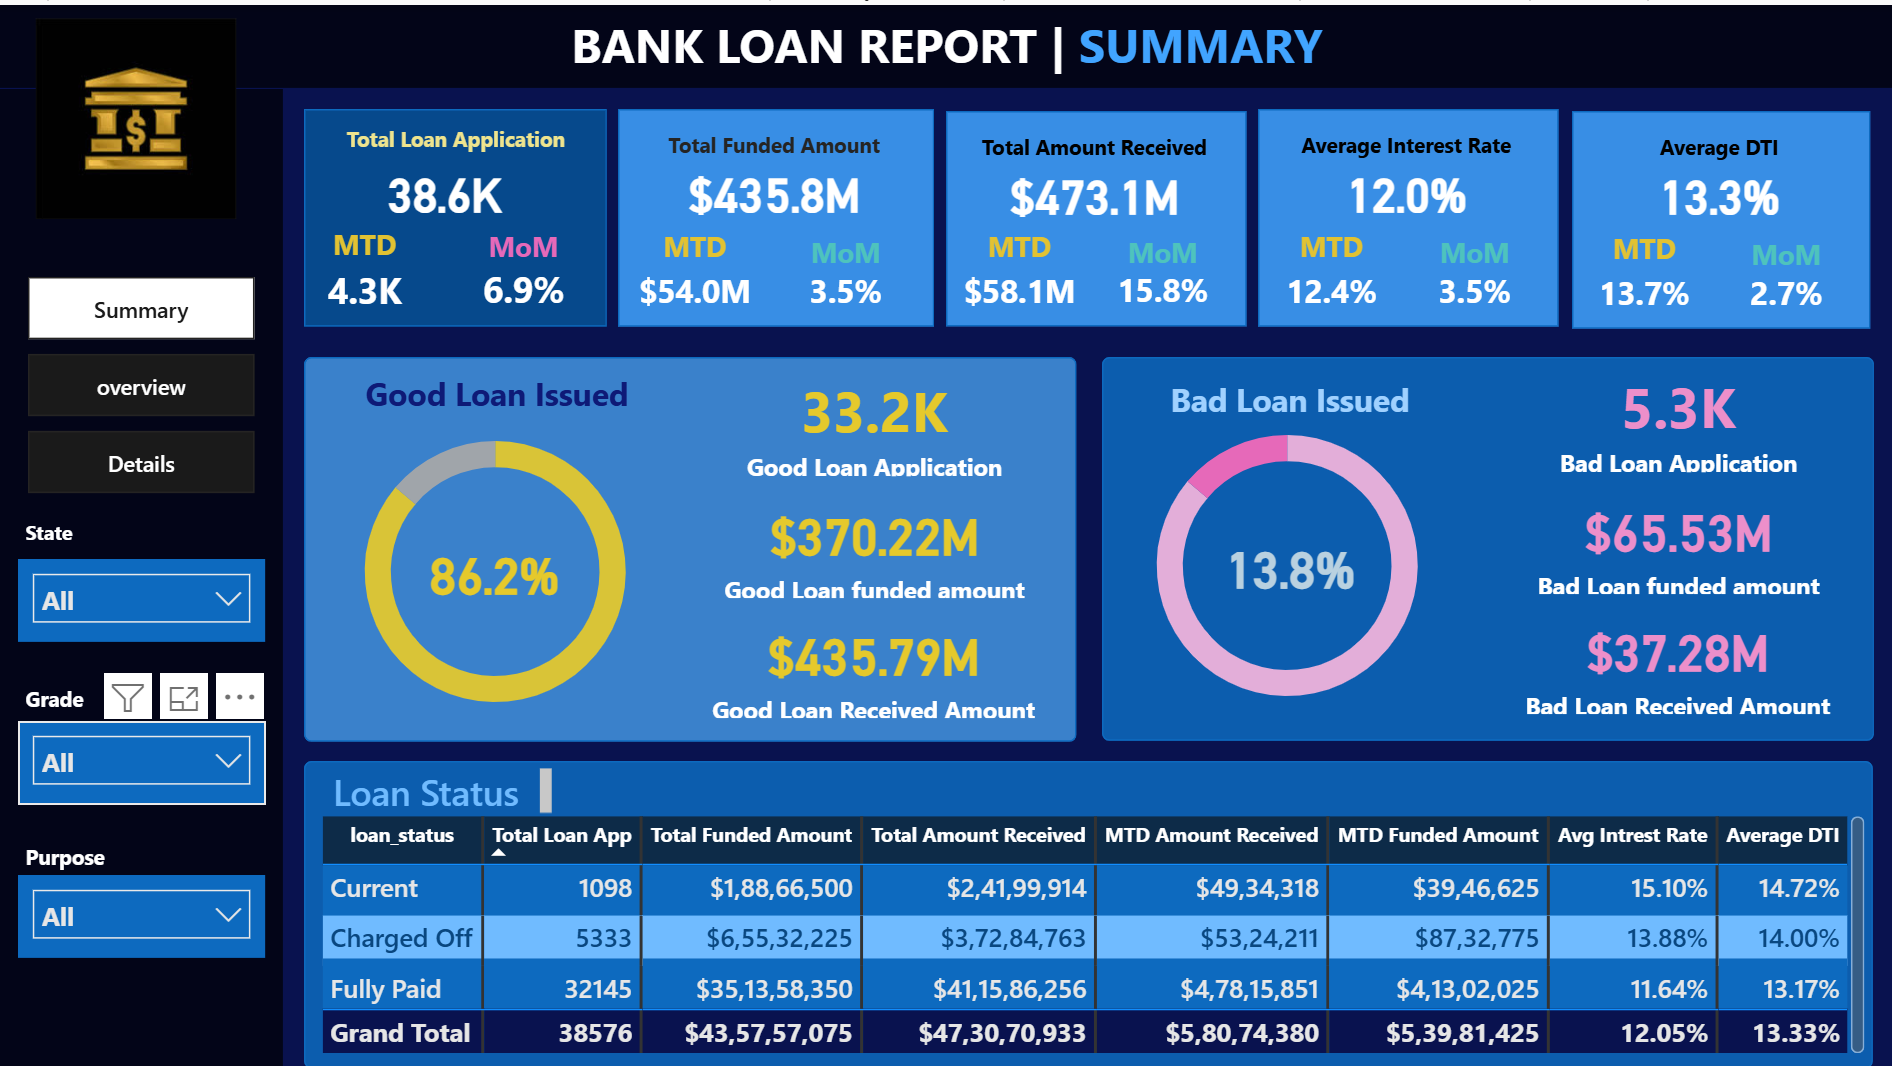

Layout of this report page (visuals, bound fields, positions):
{"tool":"powerbi","page":{"name":"Summary","canvas":[1280,720],"ordinal":0},"visuals":[{"type":"shape","box":[0,56.1,192.6,664.3],"z":0},{"type":"shape","box":[206.3,238.1,522,260],"z":1000},{"type":"donutChart","fields":{"Category":["Bank_loan_data.Good v Bad"],"Y":["Bank_loan_data.TOTAL LOAN APPLICATION"]},"box":[210.8,266.9,250.2,230.5],"z":2000},{"type":"shape","box":[0,0,1280,56.1],"z":3000},{"type":"textbox","box":[381.8,0,555.9,55.4],"z":4000},{"type":"card","fields":{"Values":["Bank_loan_data.TOTAL LOAN APPLICATION"]},"box":[192.6,104.6,216.9,42.5],"z":4000,"group":"g1"},{"type":"shape","box":[206.3,69.8,204.7,147.1],"z":5000},{"type":"shape","box":[418.9,69.8,213.7,147.1],"z":5000,"group":"g5"},{"type":"shape","box":[851.7,69.8,203.2,147.1],"z":5000,"group":"g2"},{"type":"shape","box":[640.6,71.3,203.2,145.6],"z":5000,"group":"g3"},{"type":"shape","box":[1063.5,72.1,201.7,147.1],"z":5000,"group":"g4"},{"type":"textbox","box":[210.7,75.5,197.2,36.4],"z":5000,"group":"g1"},{"type":"group","id":"g1","title":"Group 1","box":[192.6,75.5,216.9,139.8],"z":6000},{"type":"card","fields":{"Values":["Bank_loan_data.Total Funded Amount"]},"box":[417.3,98.6,213.9,56.1],"z":6000,"group":"g5"},{"type":"card","fields":{"Values":["Bank_loan_data.Avg Intrest Rate"]},"box":[850.1,98.6,203.4,56.1],"z":6000,"group":"g2"},{"type":"card","fields":{"Values":["Bank_loan_data.Total Amount Received"]},"box":[639,99.8,203.4,55.5],"z":6000,"group":"g3"},{"type":"card","fields":{"Values":["Bank_loan_data.Average DTI"]},"box":[1061.9,100.9,201.9,56.1],"z":6000,"group":"g4"},{"type":"card","title":"MTD","fields":{"Values":["Bank_loan_data.MTD Loan"]},"box":[194.1,148.6,106.2,66.7],"z":6000,"group":"g1"},{"type":"group","id":"g2","title":"Group 3","box":[850.1,69.8,204.7,147.1],"z":6002,"group":"g7"},{"type":"group","id":"g3","title":"Group 3","box":[639,71.3,204.7,145.6],"z":6002,"group":"g6"},{"type":"group","id":"g4","title":"Group 3","box":[1061.9,72.1,203.2,147.1],"z":6002,"group":"g8"},{"type":"group","id":"g5","title":"Group 2","box":[417.3,69.8,215.4,147.1],"z":7000},{"type":"textbox","box":[418,79.3,213.7,35.2],"z":7000,"group":"g5"},{"type":"textbox","box":[850.7,79.3,203.2,35.2],"z":7000,"group":"g2"},{"type":"textbox","box":[639.6,80.7,203.2,34.8],"z":7000,"group":"g3"},{"type":"textbox","box":[1062.5,81.6,201.7,35.2],"z":7000,"group":"g4"},{"type":"card","title":"MoM","fields":{"Values":["Bank_loan_data.MoM Loan Application"]},"box":[301.8,150.1,104.6,62.2],"z":7000,"group":"g1"},{"type":"group","id":"g6","title":"Group 2","box":[639,71.3,204.7,145.6],"z":8000},{"type":"card","title":"MTD","fields":{"Values":["Bank_loan_data.MTD Funded Amount"]},"box":[423.4,150.2,95.5,65.2],"z":8000,"group":"g5"},{"type":"card","title":"MTD","fields":{"Values":["Bank_loan_data.MTD Amount Received"]},"box":[645.1,150.2,91,65.2],"z":8000,"group":"g3"},{"type":"card","title":"MTD","fields":{"Values":["Bank_loan_data.MTD Average Intrest"]},"box":[856.2,150.2,91,65.2],"z":8000,"group":"g2"},{"type":"card","title":"MTD","fields":{"Values":["Bank_loan_data.MTD Avg DTI"]},"box":[1068,152.5,89.5,65.2],"z":8000,"group":"g4"},{"type":"card","title":"MoM","fields":{"Values":["Bank_loan_data.MoM Funded Amount"]},"box":[530.7,153.2,83.3,56.1],"z":9000,"group":"g5"},{"type":"card","title":"MoM","fields":{"Values":["Bank_loan_data.MoM Average Intres"]},"box":[957.9,153.2,79.2,56.1],"z":9000,"group":"g2"},{"type":"card","title":"MoM","fields":{"Values":["Bank_loan_data.MoM Amount Received"]},"box":[746.8,153.9,79.2,55.5],"z":9000,"group":"g3"},{"type":"card","title":"MoM","fields":{"Values":["Bank_loan_data.MoM Avg DTI"]},"box":[1168.9,155.5,78.6,56.1],"z":9000,"group":"g4"},{"type":"card","fields":{"Values":["Bank_loan_data.Good Loan %"]},"box":[279.1,354.9,113.7,56.1],"z":9000},{"type":"group","id":"g7","title":"Group 2","box":[850.1,69.8,204.7,147.1],"z":10000},{"type":"group","id":"g8","title":"Group 2","box":[1061.9,72.1,203.2,147.1],"z":11000},{"type":"shape","box":[746.2,238.1,521.7,259.3],"z":12000},{"type":"textbox","box":[226,242.7,222.9,42.5],"z":13000},{"type":"card","fields":{"Values":["Bank_loan_data.Bad Loan Application"]},"box":[1007.8,242.7,254.8,77.3],"z":14000,"group":"g10"},{"type":"card","fields":{"Values":["Bank_loan_data.Good Loan Application"]},"box":[464.1,245.7,254.8,77.3],"z":14000,"group":"g9"},{"type":"donutChart","fields":{"Category":["Bank_loan_data.Good v Bad"],"Y":["Bank_loan_data.TOTAL LOAN APPLICATION"]},"box":[746.2,263.9,250.2,230.5],"z":14000},{"type":"card","fields":{"Values":["Bank_loan_data.Bad Loan funded amount"]},"box":[1007.8,326.1,254.8,75.8],"z":15000,"group":"g10"},{"type":"card","fields":{"Values":["Bank_loan_data.Good Loan funded amount"]},"box":[464.1,329.1,254.8,75.8],"z":15000,"group":"g9"},{"type":"card","fields":{"Values":["Bank_loan_data.Bad Loan %"]},"box":[815.9,351.8,113.7,56.1],"z":15000},{"type":"textbox","box":[767.4,247.2,210.8,39.4],"z":16000},{"type":"card","fields":{"Values":["Bank_loan_data.Bad Loan Received Amount"]},"box":[1007,408,256.3,75.8],"z":16000,"group":"g10"},{"type":"card","fields":{"Values":["Bank_loan_data.Good Loan Received Amount"]},"box":[463.3,411,256.3,75.8],"z":16000,"group":"g9"},{"type":"group","id":"g9","title":"Group 4","box":[463.3,245.7,256.3,241.1],"z":17000},{"type":"group","id":"g10","title":"Group 4","box":[1007,242.7,256.3,241.1],"z":18000},{"type":"shape","box":[206.3,511.1,1060.1,207.8],"z":19000},{"type":"tableEx","fields":{"Values":["Bank_loan_data.loan_status","Bank_loan_data.TOTAL LOAN APPLICATION","Bank_loan_data.Total Funded Amount","Bank_loan_data.Total Amount Received","Bank_loan_data.MTD Amount Received","Bank_loan_data.MTD Funded Amount","Bank_loan_data.Avg Intrest Rate","Bank_loan_data.Average DTI"]},"box":[213.8,542.9,1052.5,169.9],"z":20000},{"type":"textbox","box":[221.4,511.1,157.7,40.9],"z":21000},{"type":"slicer","fields":{"Values":["Bank_loan_data.address_state"]},"box":[13.6,374.6,166.8,56.1],"z":22000},{"type":"textbox","box":[13.6,341.2,138,54.6],"z":23000},{"type":"slicer","fields":{"Values":["Bank_loan_data.grade"]},"box":[13.6,483.8,166.8,56.1],"z":24000},{"type":"textbox","box":[13.6,453.5,89.5,30.3],"z":25000},{"type":"slicer","fields":{"Values":["Bank_loan_data.purpose"]},"box":[13.6,588.4,166.8,56.1],"z":26000},{"type":"textbox","box":[13.6,561.1,91,37.9],"z":27000},{"type":"image","box":[0,4.5,186.5,145.6],"z":28000},{"type":"pageNavigator","box":[19.7,183.5,153.2,147.1],"z":28001}]}

Visuals, with their boxes in screenshot pixels (x1, y1, x2, y2), scaled from the page's 1280x720 canvas onto the 1892x1066 screenshot:
shape: 0,83,285,1065
shape: 305,353,1077,737
donutChart - Bank_loan_data.Good v Bad x Bank_loan_data.TOTAL LOAN APPLICATION: 312,395,681,736
shape: 0,0,1891,83
textbox: 564,0,1386,82
card - Bank_loan_data.TOTAL LOAN APPLICATION: 285,155,605,218
shape: 305,103,608,321
shape: 619,103,935,321
shape: 1259,103,1559,321
shape: 947,106,1247,321
shape: 1572,107,1870,325
textbox: 311,112,603,166
"Group 1" group: 285,112,605,319
card - Bank_loan_data.Total Funded Amount: 617,146,933,229
card - Bank_loan_data.Avg Intrest Rate: 1257,146,1557,229
card - Bank_loan_data.Total Amount Received: 945,148,1245,230
card - Bank_loan_data.Average DTI: 1570,149,1868,232
"MTD" card: 287,220,444,319
"Group 3" group: 1257,103,1559,321
"Group 3" group: 945,106,1247,321
"Group 3" group: 1570,107,1870,325
"Group 2" group: 617,103,935,321
textbox: 618,117,934,170
textbox: 1257,117,1558,170
textbox: 945,119,1246,171
textbox: 1571,121,1869,173
"MoM" card: 446,222,601,314
"Group 2" group: 945,106,1247,321
"MTD" card: 626,222,767,319
"MTD" card: 954,222,1088,319
"MTD" card: 1266,222,1400,319
"MTD" card: 1579,226,1711,322
"MoM" card: 784,227,908,310
"MoM" card: 1416,227,1533,310
"MoM" card: 1104,228,1221,310
"MoM" card: 1728,230,1844,313
card - Bank_loan_data.Good Loan %: 413,525,581,609
"Group 2" group: 1257,103,1559,321
"Group 2" group: 1570,107,1870,325
shape: 1103,353,1874,736
textbox: 334,359,664,422
card - Bank_loan_data.Bad Loan Application: 1490,359,1866,474
card - Bank_loan_data.Good Loan Application: 686,364,1063,478
donutChart - Bank_loan_data.Good v Bad x Bank_loan_data.TOTAL LOAN APPLICATION: 1103,391,1473,732
card - Bank_loan_data.Bad Loan funded amount: 1490,483,1866,595
card - Bank_loan_data.Good Loan funded amount: 686,487,1063,599
card - Bank_loan_data.Bad Loan %: 1206,521,1374,604
textbox: 1134,366,1446,424
card - Bank_loan_data.Bad Loan Received Amount: 1488,604,1867,716
card - Bank_loan_data.Good Loan Received Amount: 685,609,1064,721
"Group 4" group: 685,364,1064,721
"Group 4" group: 1488,359,1867,716
shape: 305,757,1872,1064
tableEx - Bank_loan_data.loan_status x Bank_loan_data.TOTAL LOAN APPLICATION: 316,804,1872,1055
textbox: 327,757,560,817
slicer - Bank_loan_data.address_state: 20,555,267,638
textbox: 20,505,224,586
slicer - Bank_loan_data.grade: 20,716,267,799
textbox: 20,671,152,716
slicer - Bank_loan_data.purpose: 20,871,267,954
textbox: 20,831,155,887
image: 0,7,276,222
pageNavigator: 29,272,256,489
